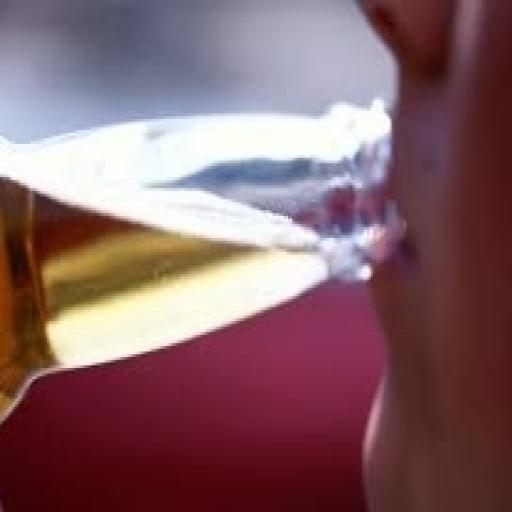drinking: (0, 97, 407, 432)
